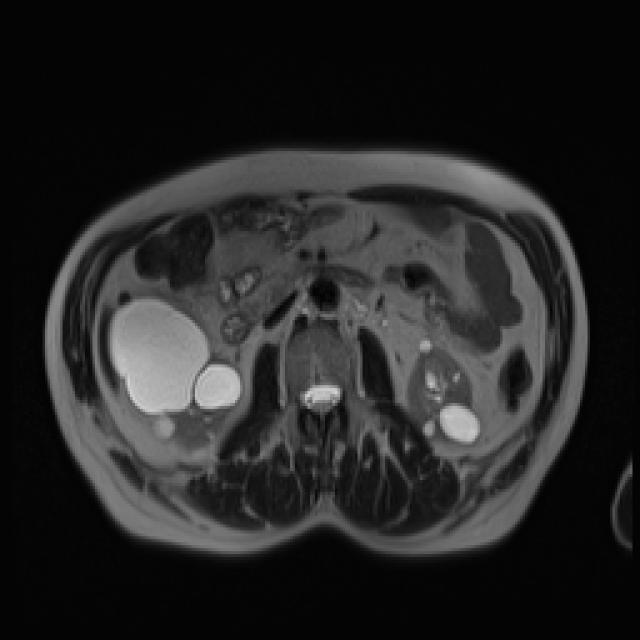sag: (111, 292, 245, 456)
sol: (406, 338, 483, 447)
